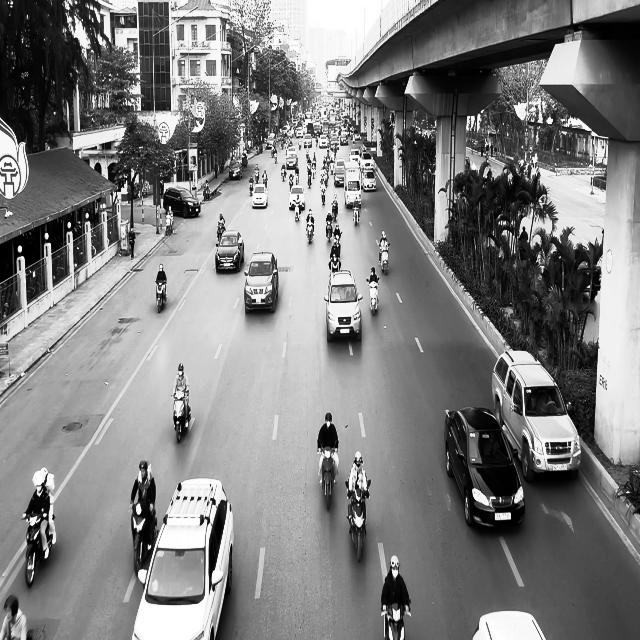car: (132, 478, 234, 640), (444, 405, 525, 529), (324, 269, 363, 343), (244, 251, 278, 313), (215, 230, 244, 273), (163, 187, 200, 218), (288, 184, 306, 210), (252, 184, 268, 208), (228, 160, 242, 180)
motorbike: (22, 511, 56, 587), (345, 477, 371, 562), (129, 500, 157, 576), (317, 442, 338, 510), (171, 387, 191, 443), (381, 604, 408, 639), (366, 276, 379, 315), (376, 239, 390, 275), (155, 280, 167, 313), (306, 218, 314, 244), (352, 201, 360, 226)
